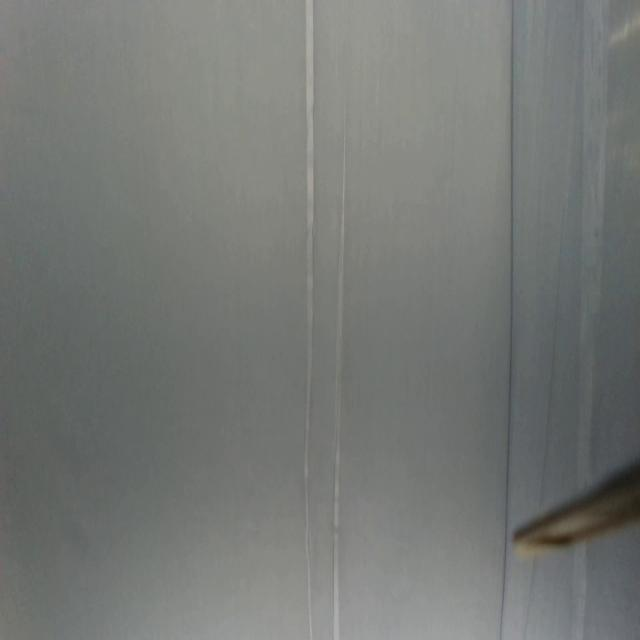crease: (496, 0, 518, 640), (300, 0, 316, 636), (332, 104, 350, 638), (540, 205, 568, 497)
